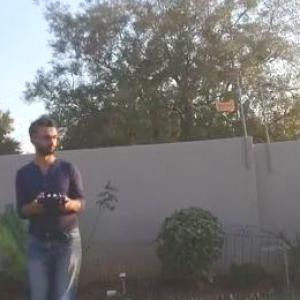follow: (12, 112, 90, 299)
